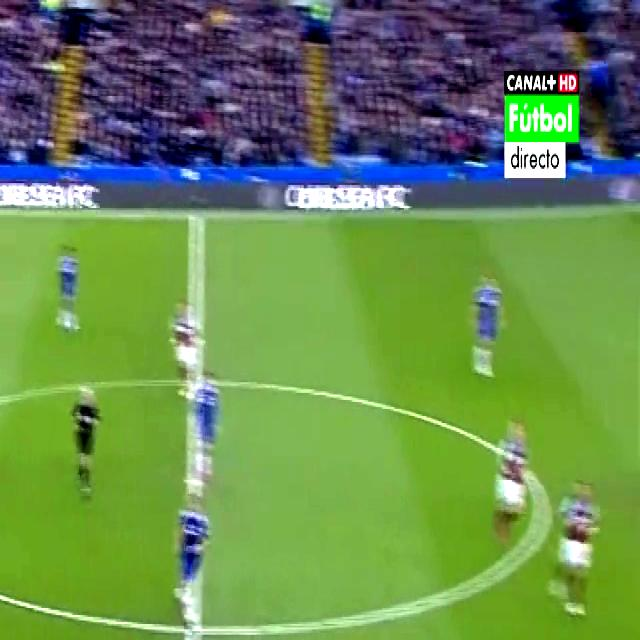referee: (70, 383, 110, 504)
soccer-player: (548, 472, 608, 626), (489, 401, 530, 551), (466, 257, 511, 381), (171, 488, 208, 636), (191, 367, 226, 498), (166, 286, 206, 399), (54, 229, 88, 348)
